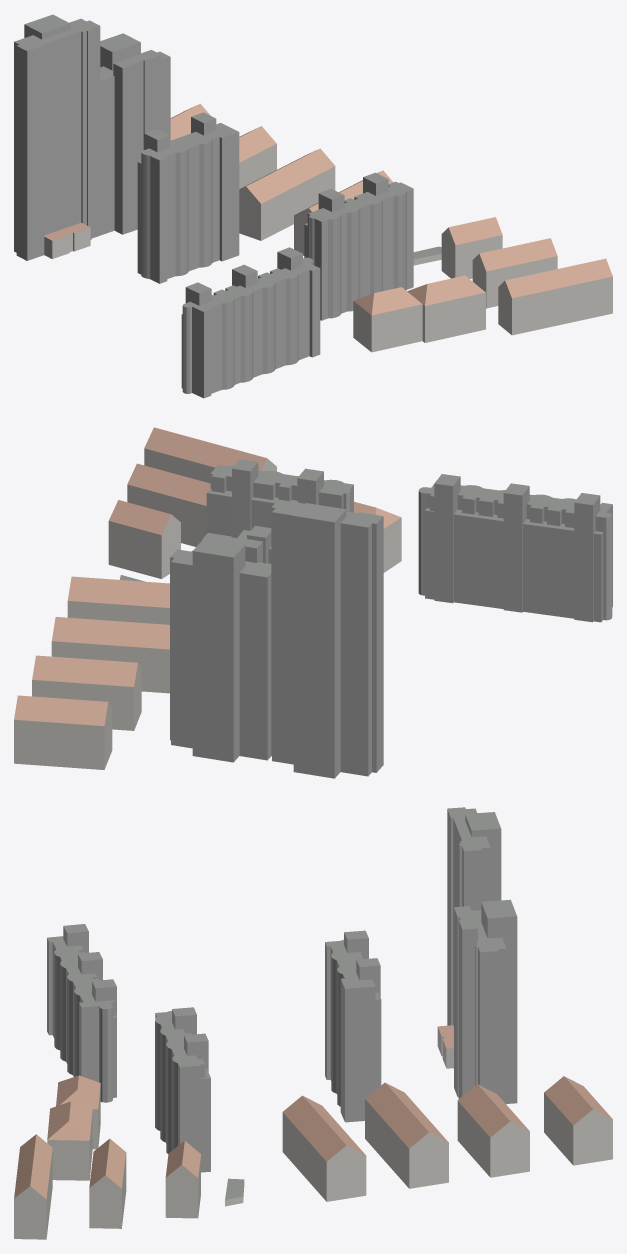
The model's file is gridID_5.dae.
The picture shows the model from 3 angles, top to bottom: view 1: azimuth 30°, elevation 25°; view 2: azimuth 150°, elevation 25°; view 3: azimuth 270°, elevation 25°; orthographic projection. The views are drawn at different scales.
Visible parts, largest first — view 1: model_gridID_5_w400180887_001, model_gridID_5_w400460214, model_gridID_5_w400195473, model_gridID_5_w400460212, model_gridID_5_w400180887, model_gridID_5_w392124141, model_gridID_5_w392124137, model_gridID_5_w392124151, model_gridID_5_w392124148, model_gridID_5_w392124143, model_gridID_5_w392124140, model_gridID_5_w392124145 (+2 smaller); view 2: model_gridID_5_w400180887_001, model_gridID_5_w400460214, model_gridID_5_w400180887, model_gridID_5_w400460212, model_gridID_5_w392124144, model_gridID_5_w392124137, model_gridID_5_w392124145, model_gridID_5_w392124140, model_gridID_5_w392124139, model_gridID_5_w392124143, model_gridID_5_w392124141, model_gridID_5_w392124148 (+1 smaller); view 3: model_gridID_5_w400180887, model_gridID_5_w400195473, model_gridID_5_w400460214, model_gridID_5_w400460212, model_gridID_5_w400180887_001, model_gridID_5_w392124139, model_gridID_5_w392124137, model_gridID_5_w392124145, model_gridID_5_w392124144, model_gridID_5_w392124141, model_gridID_5_w392124151, model_gridID_5_w392124143 (+2 smaller).
Part boxes in pixels (x1,y1,x2,y2): model_gridID_5_w400180887_001: (14, 14, 100, 260); model_gridID_5_w400460214: (181, 247, 320, 398); model_gridID_5_w400195473: (137, 112, 239, 283); model_gridID_5_w400460212: (304, 172, 413, 320); model_gridID_5_w400180887: (100, 33, 170, 235); model_gridID_5_w392124141: (498, 258, 612, 335); model_gridID_5_w392124137: (239, 148, 335, 240); model_gridID_5_w392124151: (407, 275, 485, 342); model_gridID_5_w392124148: (353, 287, 422, 352); model_gridID_5_w392124143: (472, 238, 557, 308); model_gridID_5_w392124140: (441, 217, 502, 278); model_gridID_5_w392124145: (239, 126, 276, 188); model_gridID_5_w400180887_001: (271, 499, 383, 778); model_gridID_5_w400460214: (418, 474, 612, 622); model_gridID_5_w400180887: (170, 533, 271, 762); model_gridID_5_w400460212: (206, 459, 353, 538); model_gridID_5_w392124144: (14, 695, 112, 769); model_gridID_5_w392124137: (51, 617, 169, 693); model_gridID_5_w392124145: (32, 655, 141, 730); model_gridID_5_w392124140: (108, 500, 180, 578); model_gridID_5_w392124139: (67, 576, 169, 624); model_gridID_5_w392124143: (127, 463, 210, 546); model_gridID_5_w392124141: (144, 427, 276, 483); model_gridID_5_w392124148: (354, 501, 401, 572); model_gridID_5_w400180887: (454, 899, 517, 1104); model_gridID_5_w400195473: (325, 930, 381, 1122); model_gridID_5_w400460214: (47, 924, 116, 1102); model_gridID_5_w400460212: (155, 1007, 210, 1172); model_gridID_5_w400180887_001: (437, 807, 501, 1068); model_gridID_5_w392124139: (282, 1095, 366, 1201); model_gridID_5_w392124137: (365, 1082, 448, 1188); model_gridID_5_w392124145: (457, 1084, 529, 1177); model_gridID_5_w392124144: (544, 1076, 612, 1165); model_gridID_5_w392124141: (14, 1134, 52, 1239); model_gridID_5_w392124151: (47, 1101, 92, 1180); model_gridID_5_w392124143: (89, 1138, 126, 1228).
Bounding box in the file's own units: 172 × 203 × 87.5.
